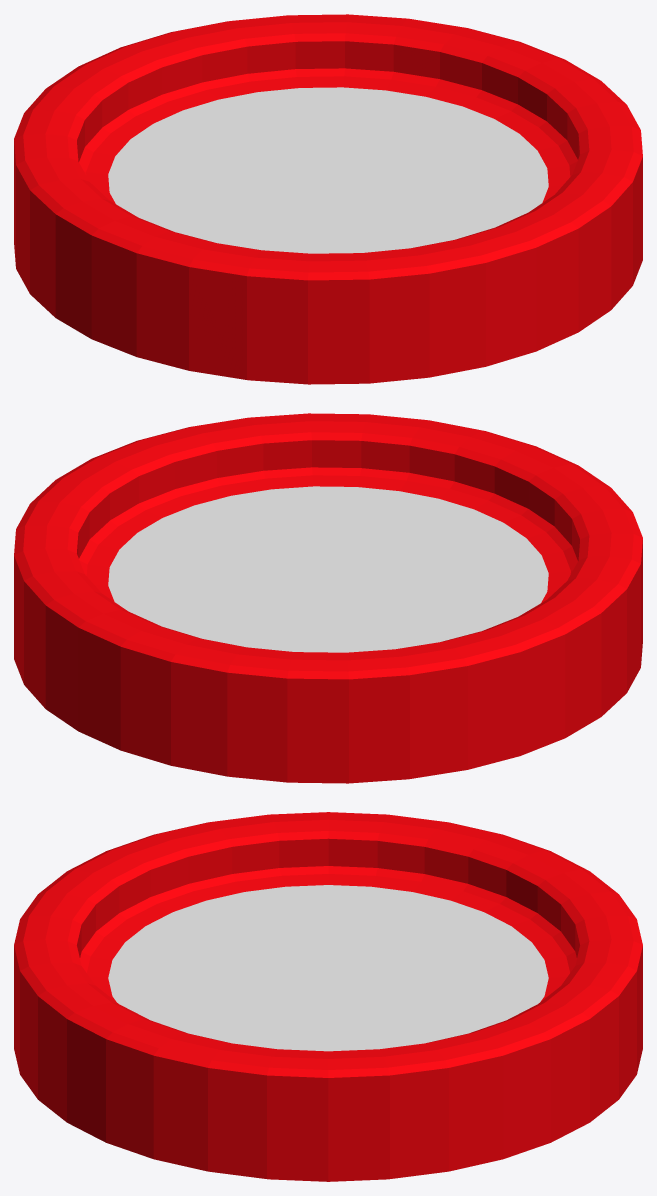
File: Chip.fbx
3 renders of one model, top to bottom at view 1: azimuth 30°, elevation 25°; view 2: azimuth 150°, elevation 25°; view 3: azimuth 270°, elevation 25°, orthographic.
Parts seen in each view (by area): view 1: Cylinder; view 2: Cylinder; view 3: Cylinder.
Part boxes in pixels (x1=…): Cylinder: x1=14, y1=14, x2=642, y2=384; Cylinder: x1=14, y1=413, x2=642, y2=783; Cylinder: x1=14, y1=812, x2=642, y2=1181.
Bounding box in the file's own units: 200 × 40.39 × 200.
